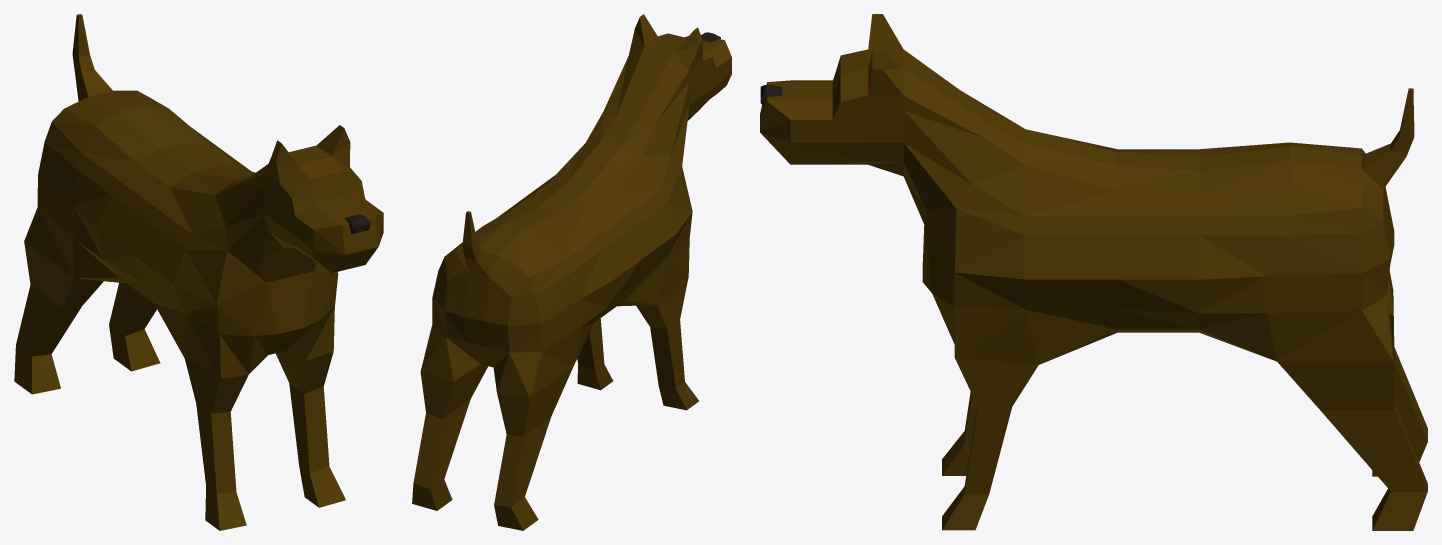
Rendered from Dog.fbx.
3 views of the same model, side by side, from view 1: azimuth 30°, elevation 25°; view 2: azimuth 150°, elevation 25°; view 3: azimuth 270°, elevation 25° (orthographic). The views are drawn at different scales.
Visible parts, largest first — view 1: pCube5; view 2: pCube5; view 3: pCube5.
Part boxes in pixels (left/top/right/bottom): pCube5: left=14, top=14, right=383, bottom=530; pCube5: left=412, top=14, right=731, bottom=530; pCube5: left=760, top=14, right=1427, bottom=530.
Bounding box in the file's own units: 0.9273 × 2.43 × 3.16.
